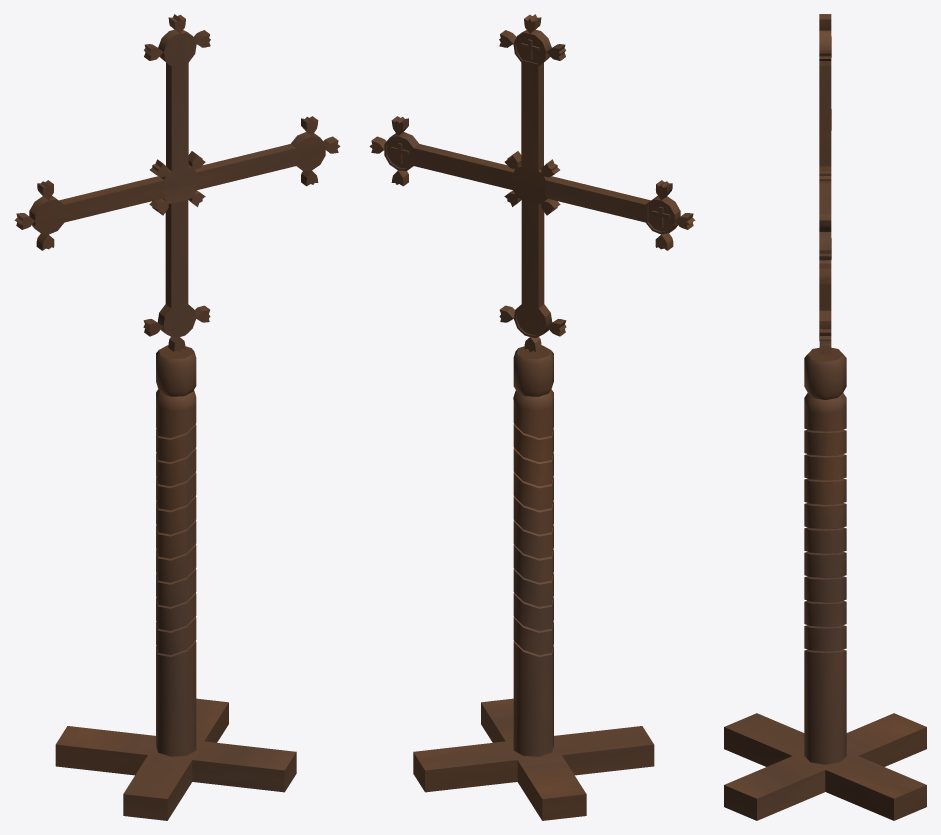
File: Cruz.fbx
The picture shows the model from 3 angles, left to right: view 1: azimuth 30°, elevation 25°; view 2: azimuth 150°, elevation 25°; view 3: azimuth 270°, elevation 25°; orthographic projection.
Parts seen in each view (by area): view 1: Circle.006, Circle.004, Circle.005; view 2: Circle.006, Circle.004, Circle.005; view 3: Circle.006, Circle.004, Circle.005.
Part boxes in pixels (x1,y1,x2,y2): Circle.006: [55, 345, 296, 820]; Circle.004: [29, 29, 325, 338]; Circle.005: [14, 14, 340, 352]; Circle.006: [413, 345, 654, 820]; Circle.004: [384, 29, 680, 337]; Circle.005: [369, 14, 695, 352]; Circle.006: [724, 347, 926, 820]; Circle.004: [819, 30, 831, 339]; Circle.005: [819, 14, 831, 354].
Size of the model in its own units: 101 by 228 by 54.79.
